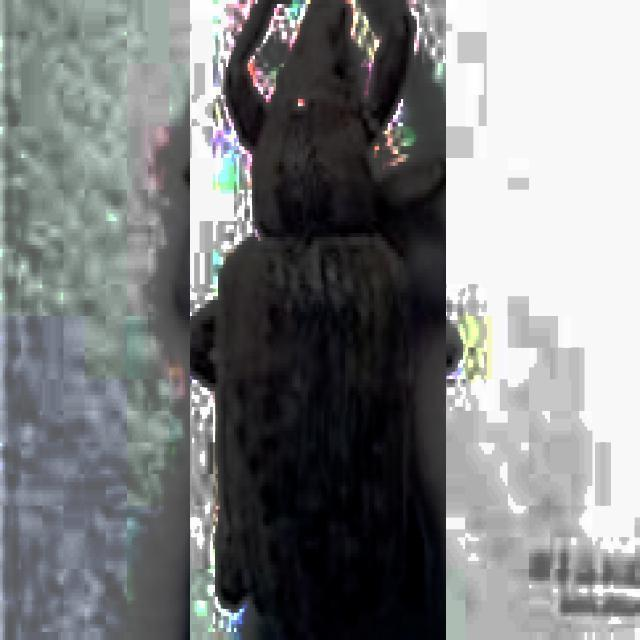rice-bug: (190, 0, 446, 640)
